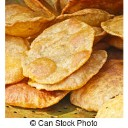poori: (24, 18, 94, 80), (32, 48, 107, 89), (70, 55, 122, 109), (5, 81, 70, 111), (5, 4, 57, 39), (5, 34, 30, 85), (100, 15, 124, 38), (97, 99, 123, 117)
